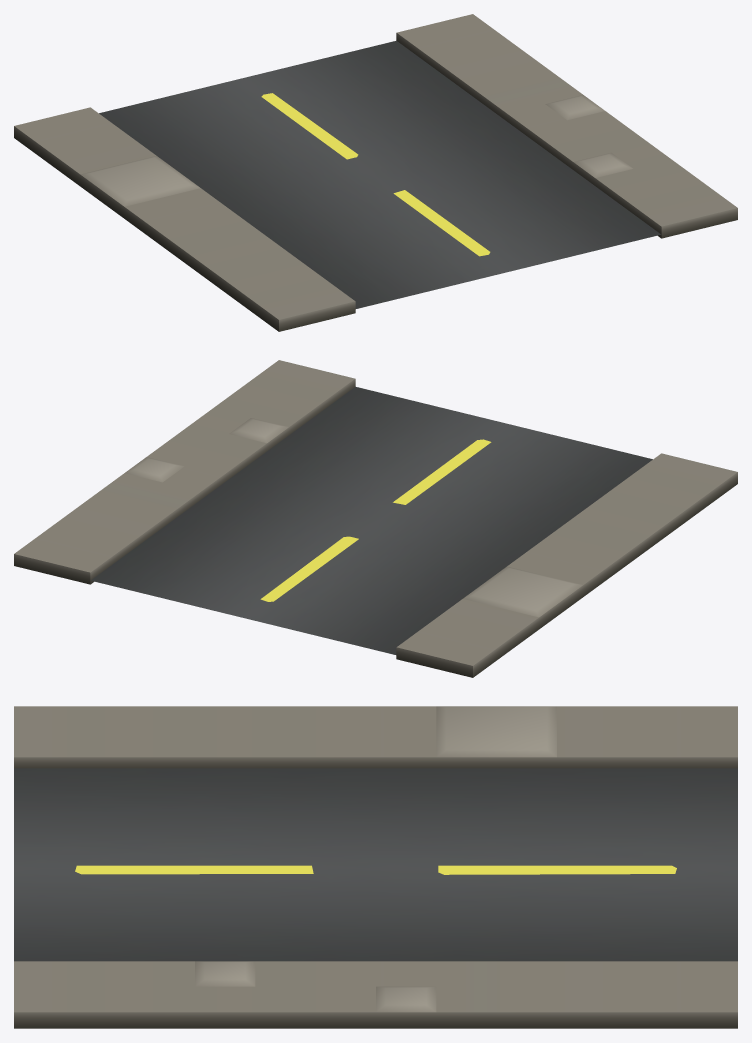
The model's file is Road_1A.fbx.
The picture shows the model from 3 angles, top to bottom: view 1: azimuth 30°, elevation 25°; view 2: azimuth 150°, elevation 25°; view 3: azimuth 270°, elevation 25°; orthographic projection. The views are drawn at different scales.
Parts seen in each view (by area): view 1: Road_1A; view 2: Road_1A; view 3: Road_1A.
Boxes of the visible parts, x1,y1,x2,y2 form: Road_1A: (14,14,737,331); Road_1A: (14,360,737,677); Road_1A: (14,706,737,1028).
Bounding box in the file's own units: 1200 × 35.65 × 1200.
